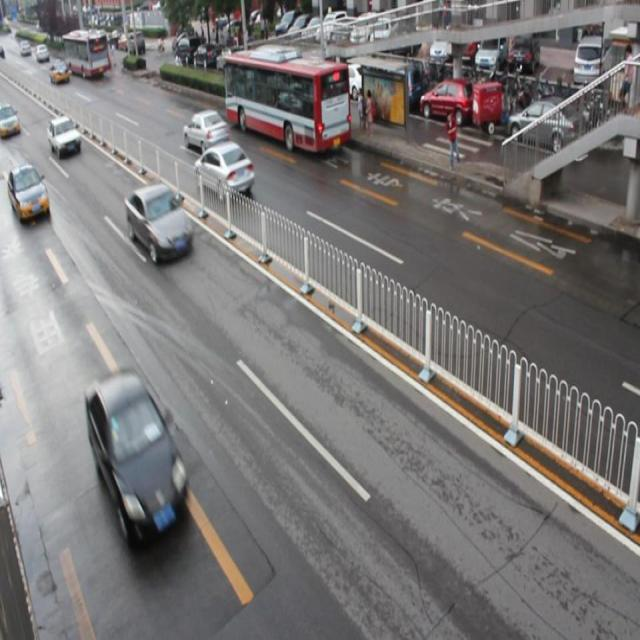car: (85, 364, 187, 540), (124, 182, 193, 266), (194, 140, 254, 201), (0, 160, 50, 223), (183, 109, 231, 154), (47, 114, 82, 158)
van: (224, 52, 350, 152)
